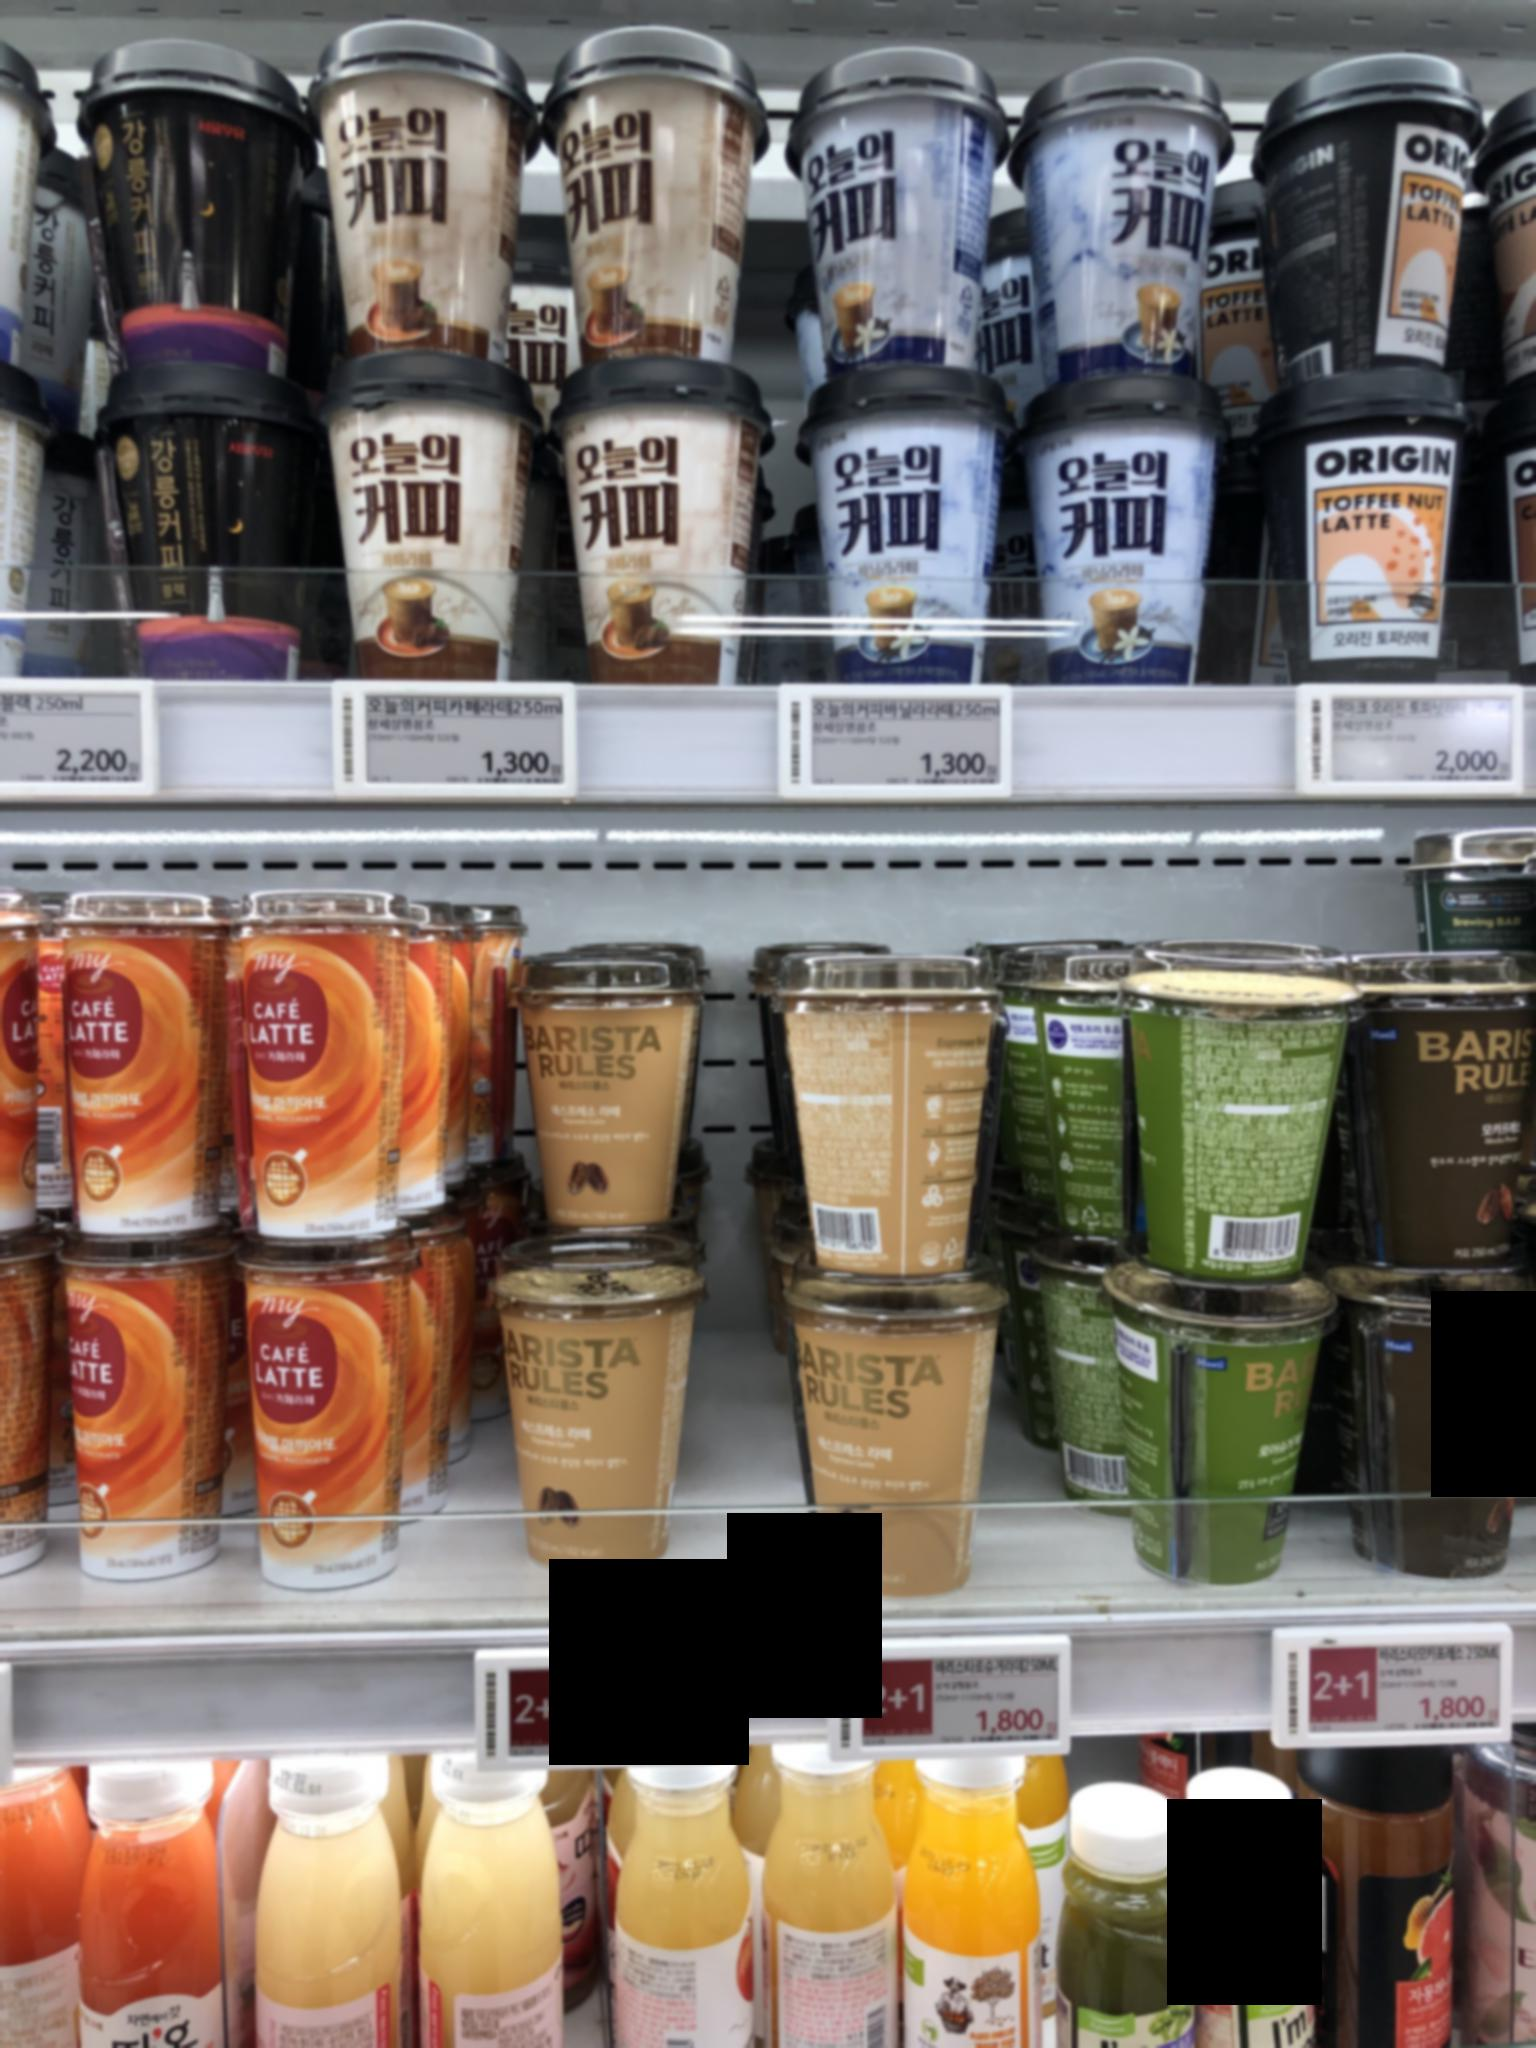baristarules_espressolatte: (734, 898, 1013, 1269), (765, 1264, 1008, 1600), (479, 1255, 721, 1572), (524, 948, 705, 1242)
